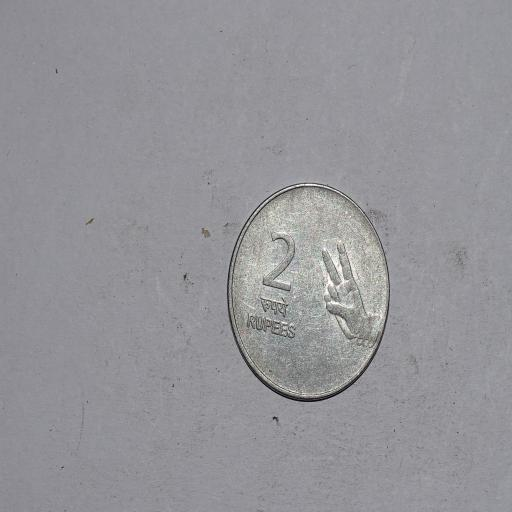rupee2: (226, 184, 388, 399)
